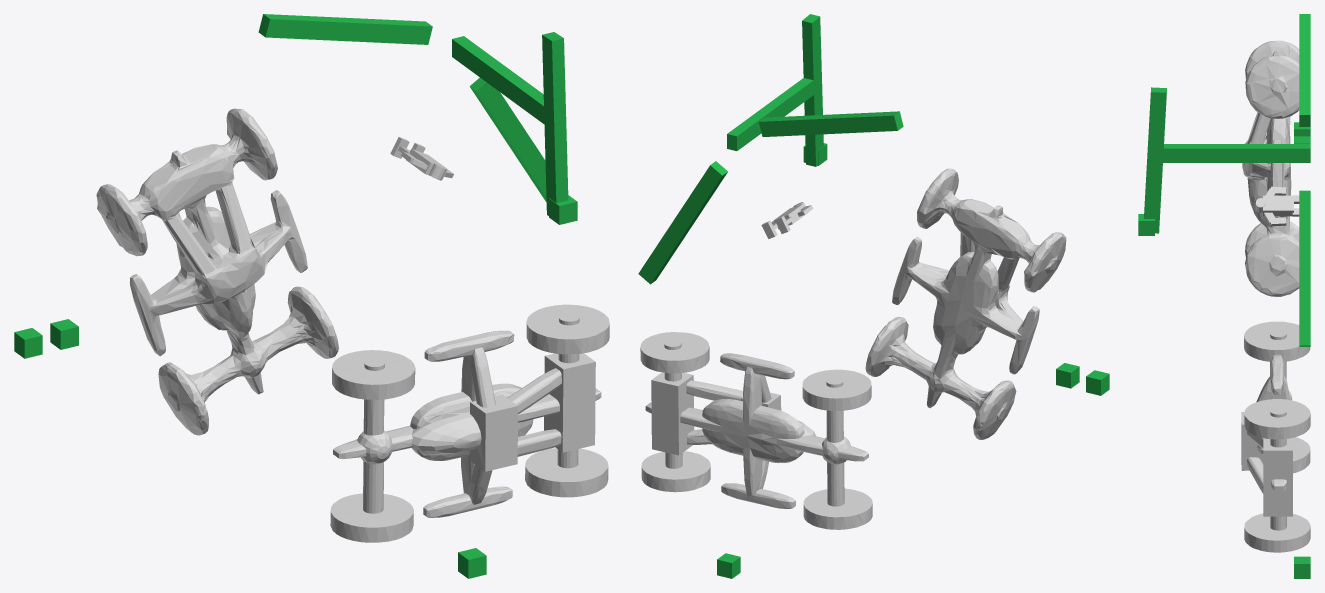
The model's file is cars_diff.obj.
3 renders of one model, left to right at view 1: azimuth 30°, elevation 25°; view 2: azimuth 150°, elevation 25°; view 3: azimuth 270°, elevation 25°, orthographic. The views are drawn at different scales.
Parts seen in each view (by area): view 1: Object.1, Object.2, Object.8, Object.10, Object.7, Object.9, Object.3, Object.5, Object.6, Object.4; view 2: Object.1, Object.2, Object.8, Object.9, Object.10, Object.7, Object.3; view 3: Object.1, Object.2, Object.7, Object.10, Object.9, Object.8, Object.3, Object.6, Object.11.
Boxes of the visible parts, x1,y1,x2,y2 form: Object.1: [330, 304, 609, 542]; Object.2: [96, 108, 338, 435]; Object.8: [258, 14, 432, 44]; Object.10: [542, 32, 568, 215]; Object.7: [452, 36, 547, 125]; Object.9: [469, 77, 546, 202]; Object.3: [390, 137, 453, 180]; Object.5: [14, 328, 42, 358]; Object.6: [458, 548, 486, 578]; Object.4: [50, 319, 78, 349]; Object.1: [640, 332, 872, 529]; Object.2: [865, 168, 1066, 439]; Object.8: [759, 111, 903, 136]; Object.9: [638, 161, 727, 284]; Object.10: [802, 14, 823, 166]; Object.7: [727, 77, 818, 150]; Object.3: [761, 202, 813, 238]; Object.1: [1241, 321, 1310, 552]; Object.2: [1242, 40, 1299, 296]; Object.7: [1155, 144, 1310, 162]; Object.10: [1144, 87, 1166, 233]; Object.9: [1299, 190, 1310, 346]; Object.8: [1299, 14, 1310, 126]; Object.3: [1255, 186, 1299, 226]; Object.6: [1294, 556, 1310, 578]; Object.11: [1138, 214, 1154, 235].
Bounding box in the file's own units: 158 × 160 × 51.88.
